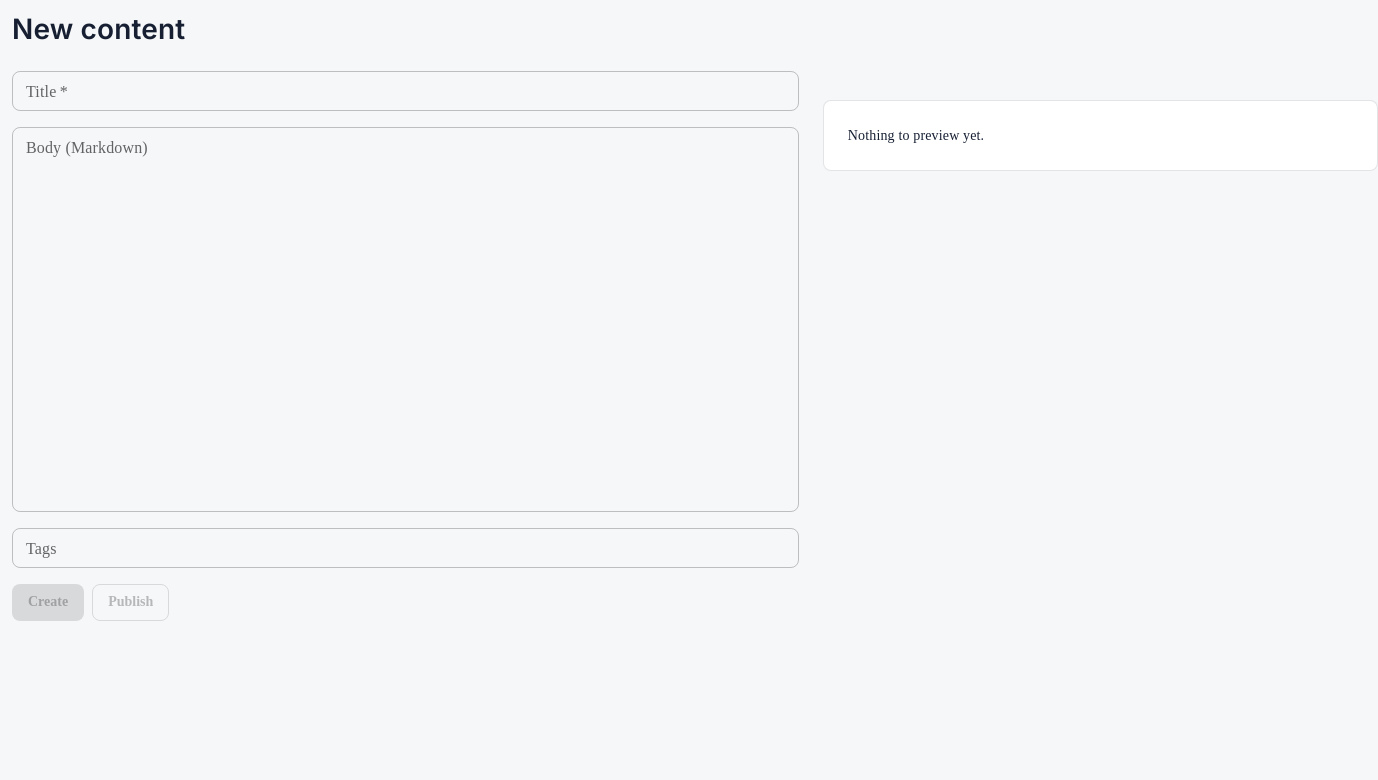
Test case: ContentEditorScreen › a blank Title shows "Title is required" after blur and blocks submit
Click the field labelled "Title *". click: coordinates (405, 91)
box: left=12, top=71, right=799, bottom=111
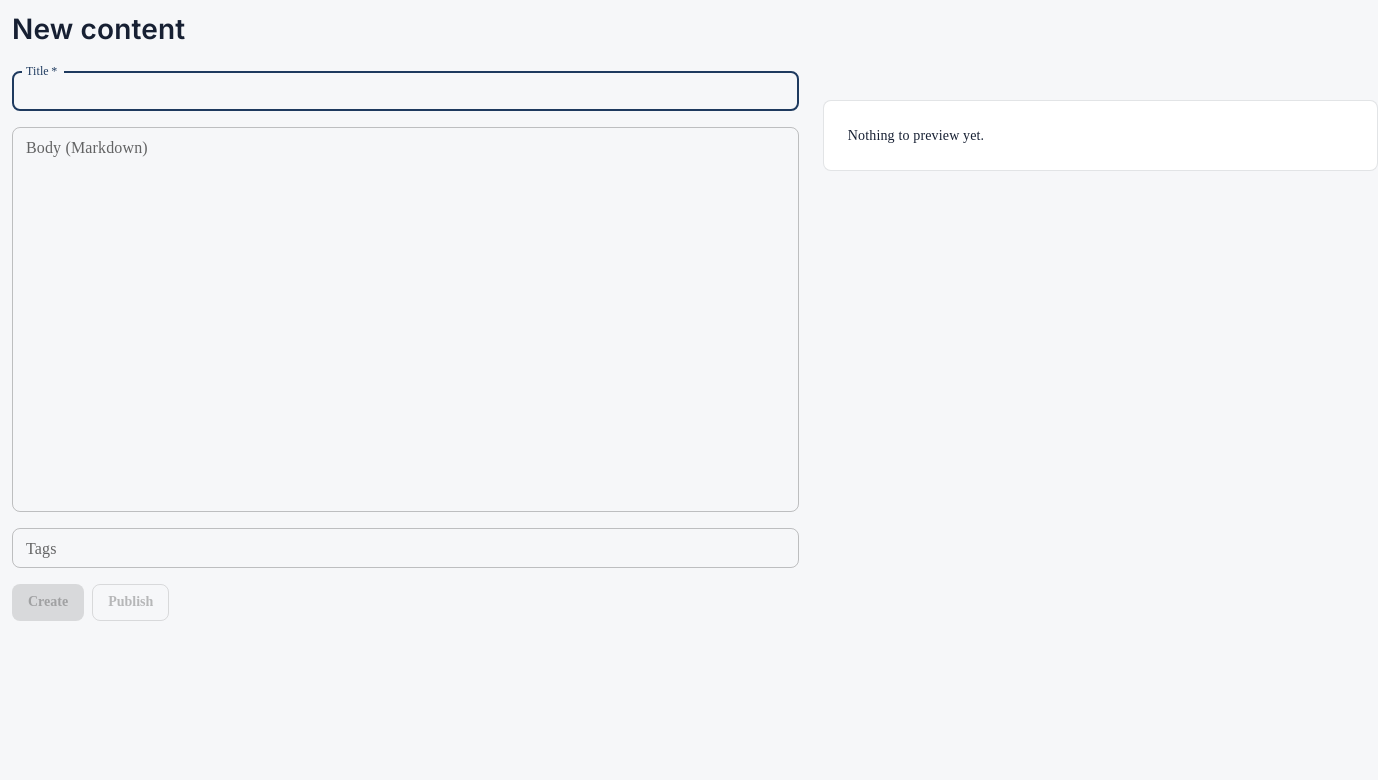
Press Tab
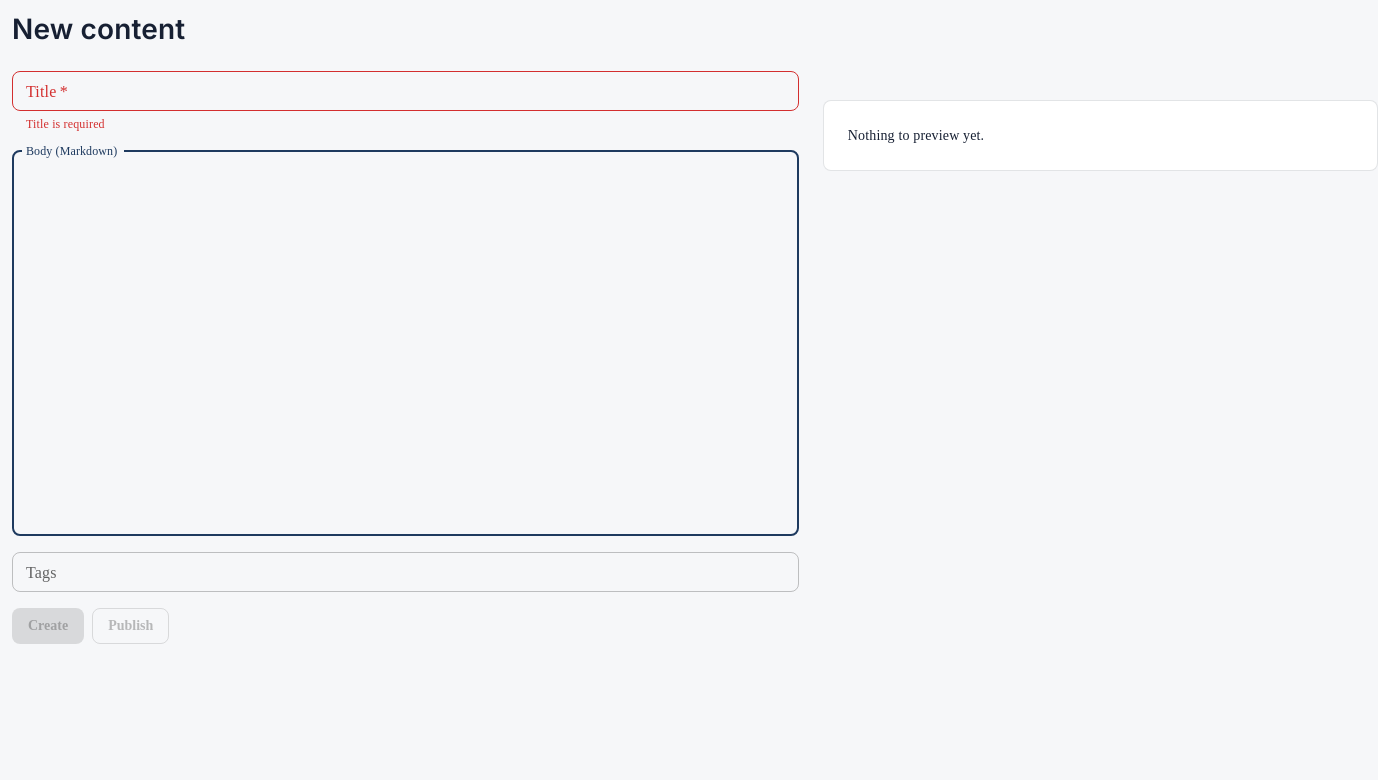
Now the text "Title is required" is shown, box left=26, top=117, right=105, bottom=131
